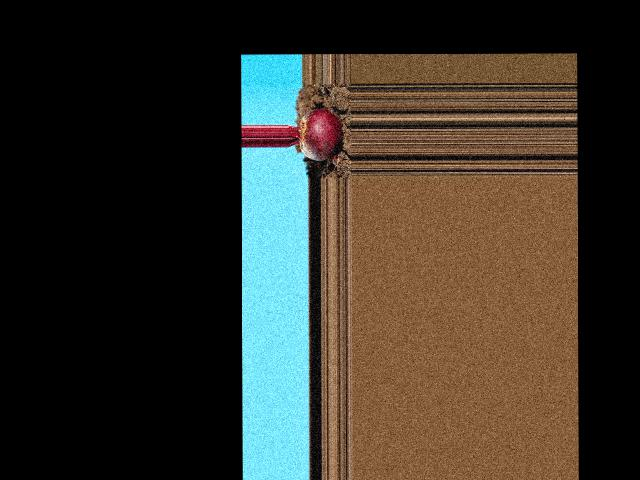beet: (288, 108, 342, 161)
